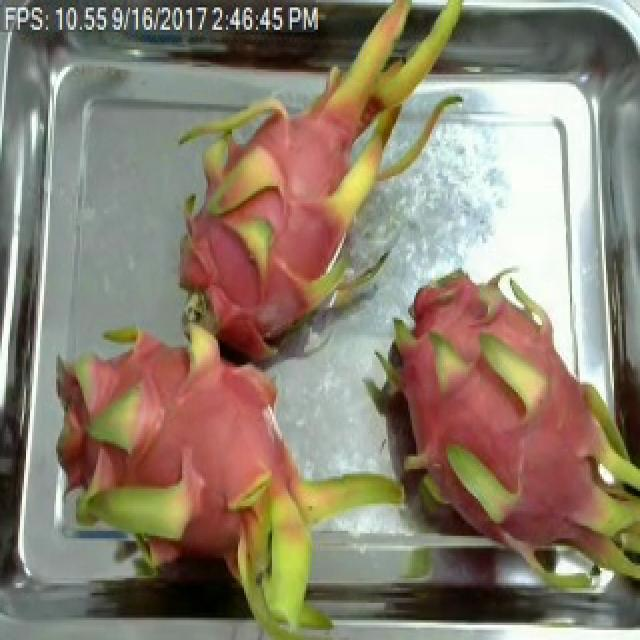Fruit: (400, 263, 524, 382)
